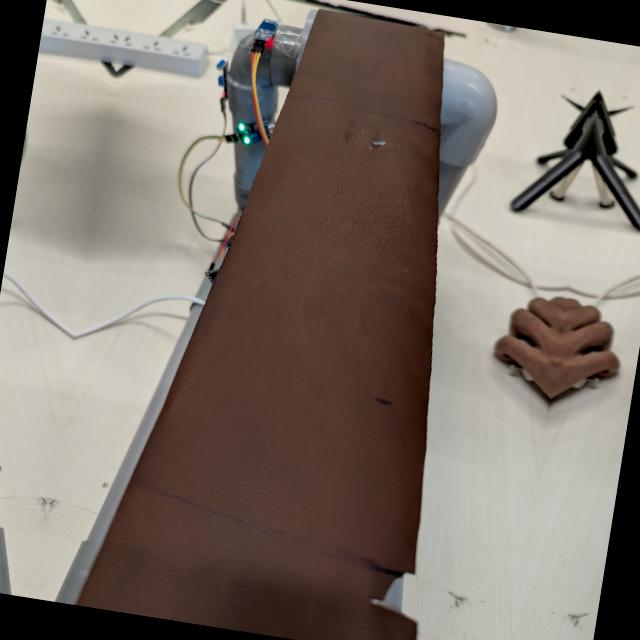belt_crack: (324, 98, 432, 176)
belt_tear: (354, 549, 430, 629)
